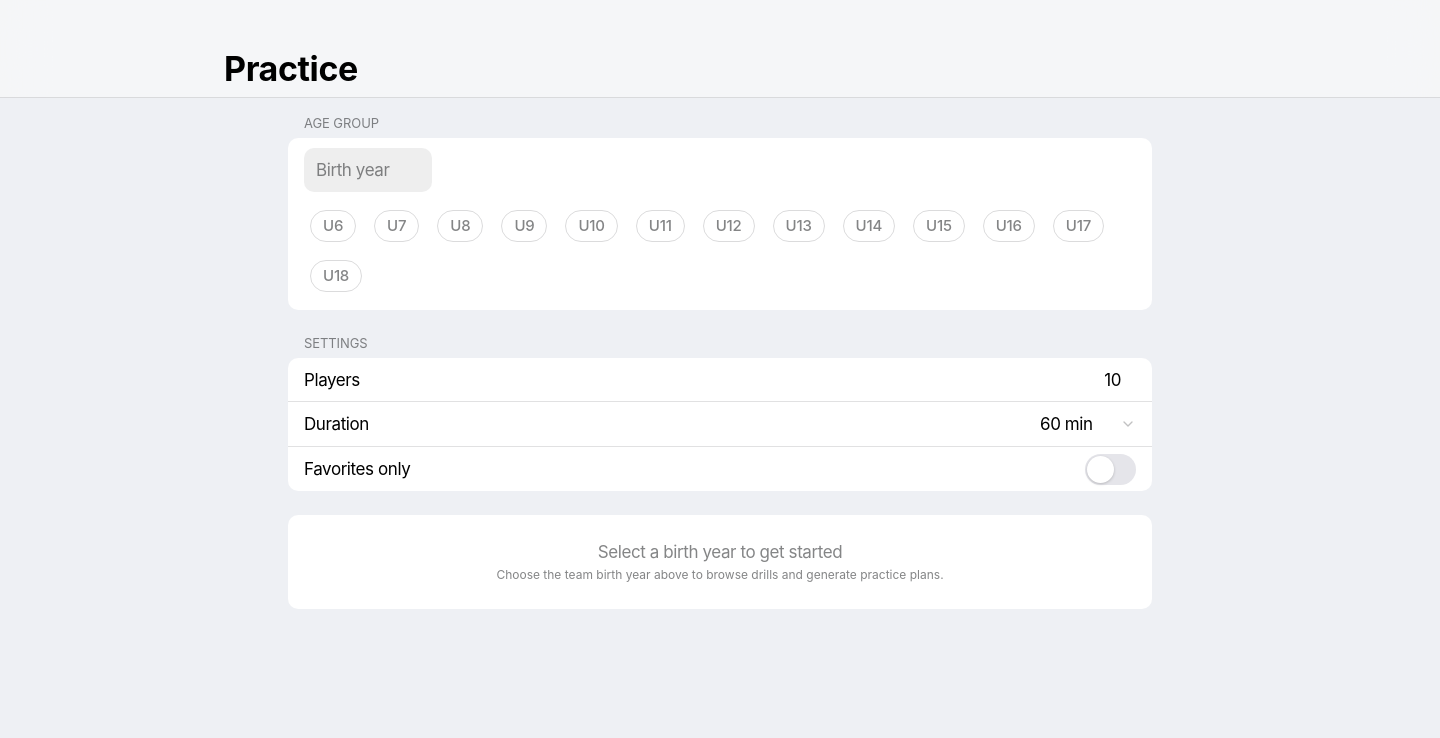
Test: Practice page › shows Shuffle All button when a plan is generated
Click the button "U10": (592,226) [560, 204, 624, 248]
(page scrolled)
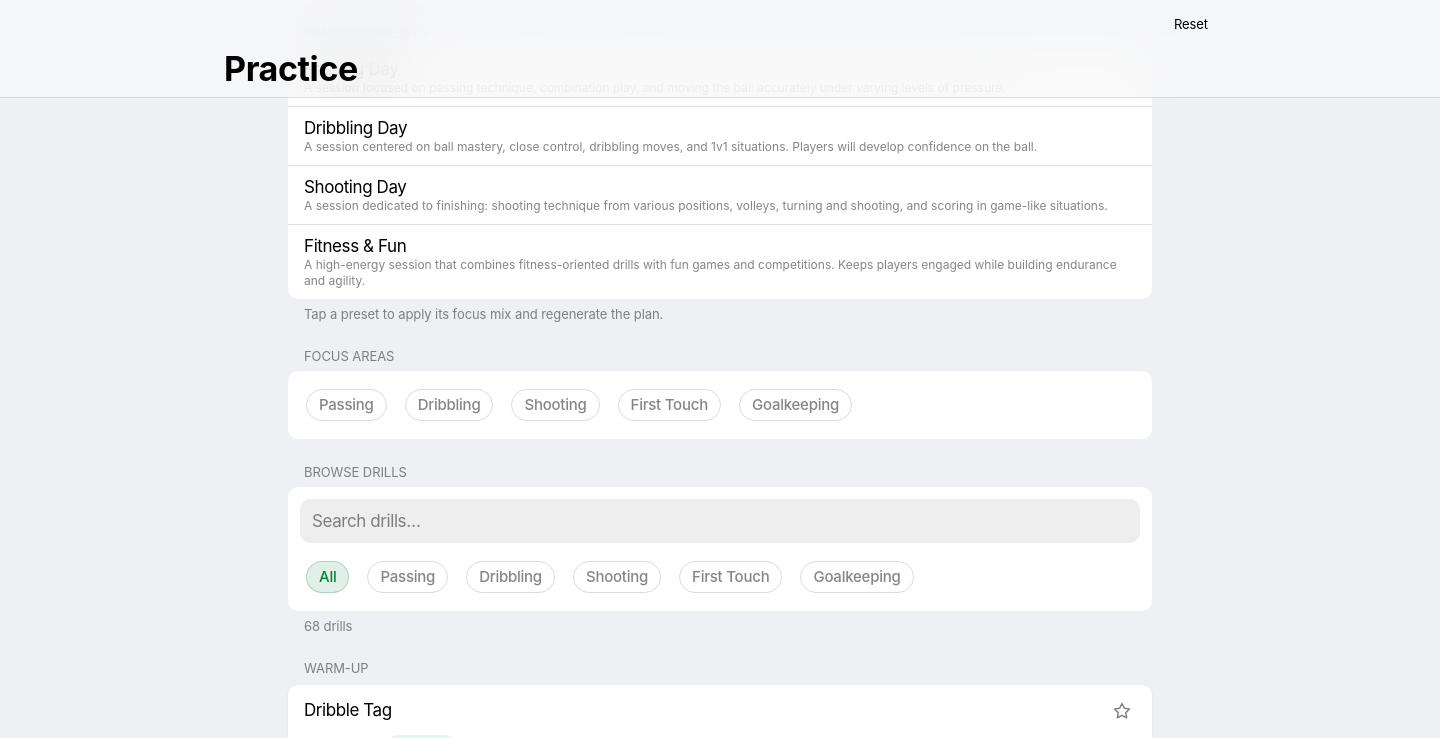
Click the button "Passing" below "Focus Areas": (346,405) [300, 383, 393, 427]
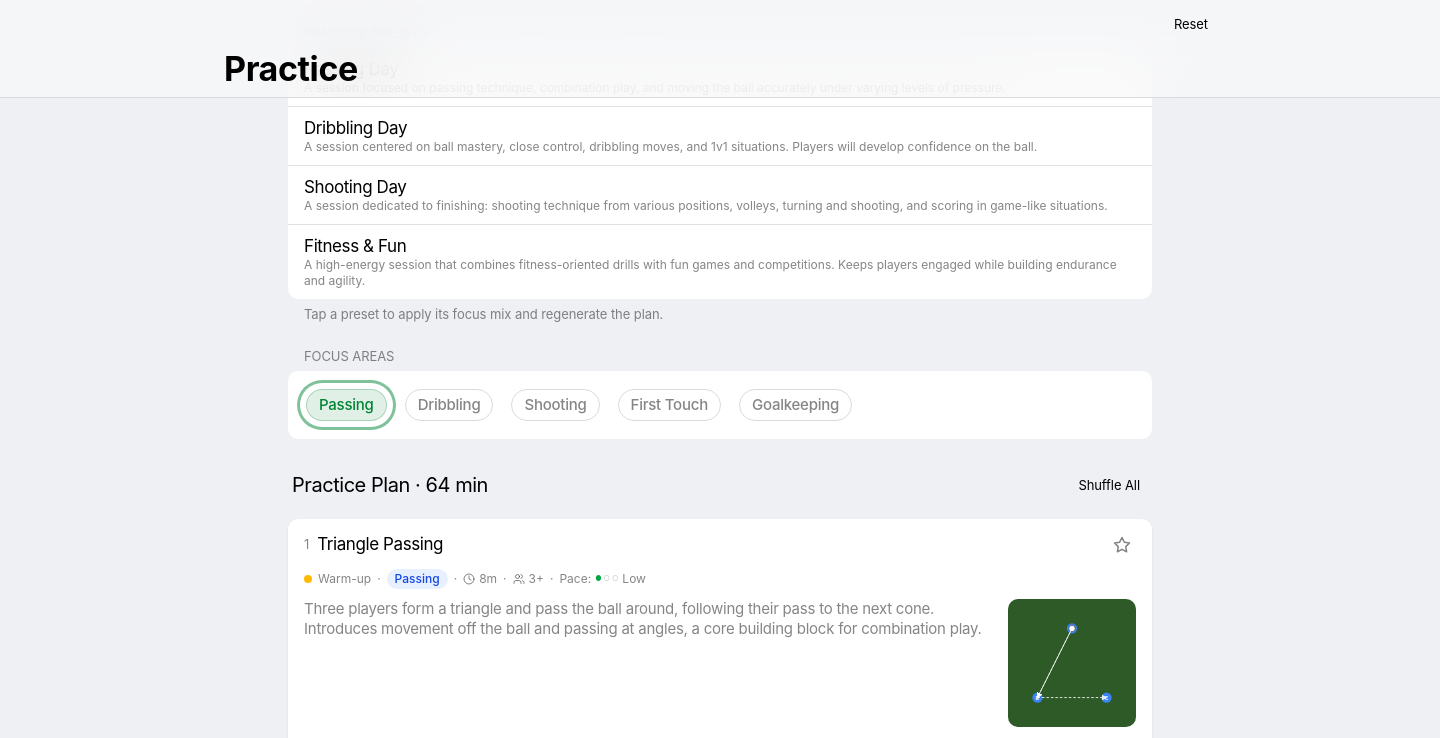
Expected: the button "Shuffle All" is shown, [1070, 463, 1148, 507]
